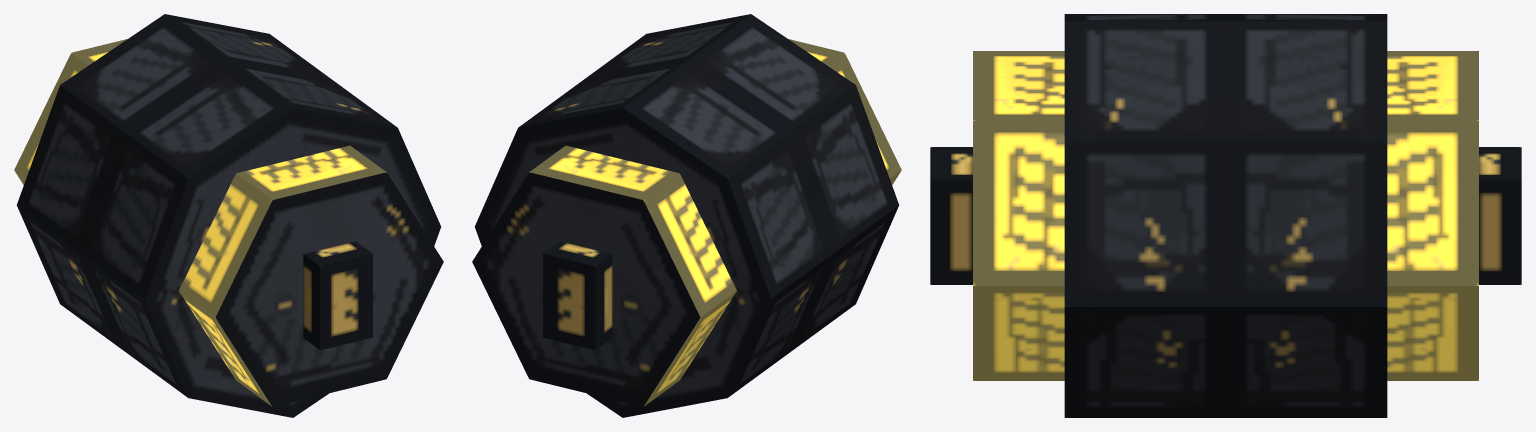
File: element_explosive.glb
3 renders of one model, left to right at view 1: azimuth 30°, elevation 25°; view 2: azimuth 150°, elevation 25°; view 3: azimuth 270°, elevation 25°, orthographic. The views are drawn at different scales.
Parts seen in each view (by area): view 1: FACE_FRONT, FACE_BACK; view 2: FACE_BACK, FACE_FRONT; view 3: FACE_FRONT, FACE_BACK.
Boxes of the visible parts, x1,y1,x2,y2 form: FACE_FRONT: (81, 61, 443, 417); FACE_BACK: (14, 14, 332, 350); FACE_BACK: (472, 61, 834, 417); FACE_FRONT: (583, 14, 901, 350); FACE_FRONT: (930, 14, 1225, 417); FACE_BACK: (1226, 14, 1521, 417).
Size of the model in its own units: 0.096 by 0.096 by 0.132.
Materials: 2 (2 with a texture image).
